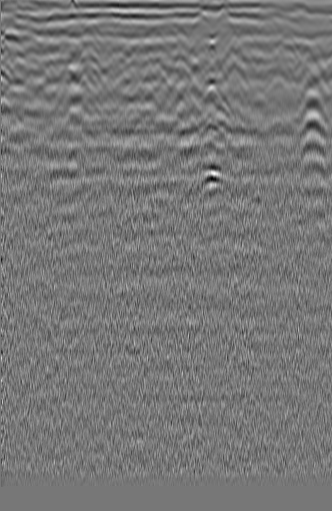가스: (194, 162, 228, 194)
상수: (293, 47, 327, 84)
오수: (0, 26, 28, 54)
우수: (143, 45, 175, 82)
